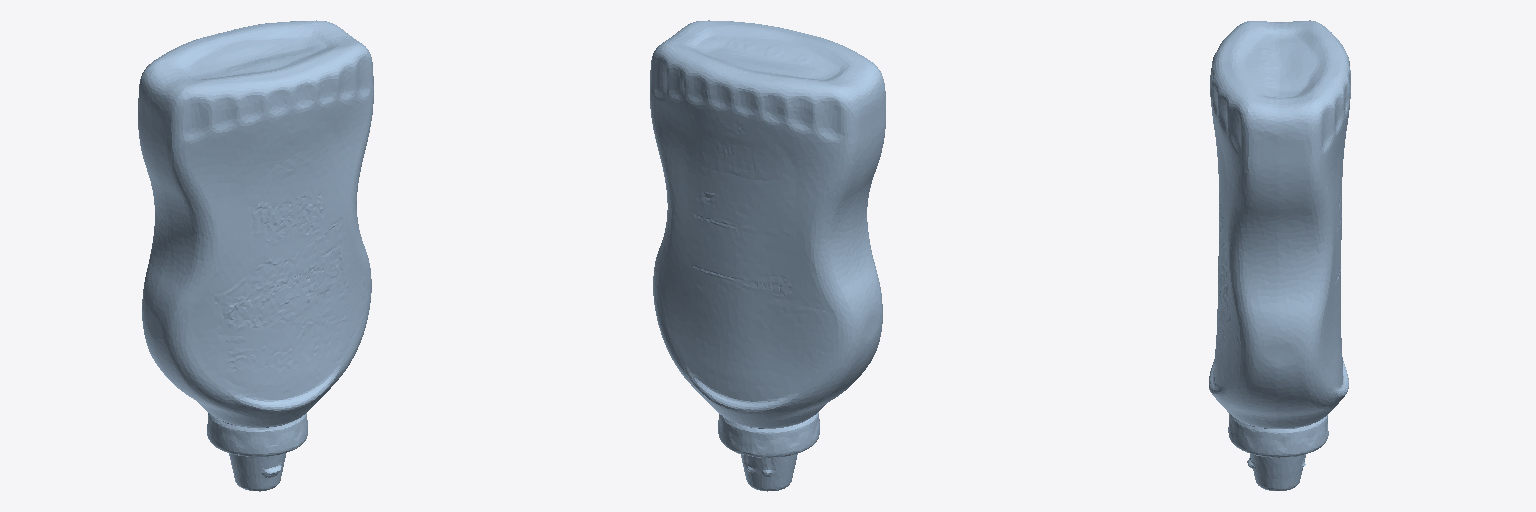
The robot description file, URDF, robot "mustard":
<?xml version="1.0" ?>
<robot name="mustard">
  <dynamics damping="0.5" friction="0.9"/>
  <link name="mustard_link">
    <inertial>
      <mass value="0.1"/>
      <origin xyz="0 0 0"/>
      <inertia ixx="0.002" ixy="0" ixz="0" iyy="0.002" iyz="0" izz="0.002"/>
    </inertial>
    <contact>
      <lateral_friction value="0.9"/>
      <rolling_friction value="0.5"/>
      <stiffness value="30000"/>
      <damping value="1000"/>
    </contact>
    <visual>
      <origin rpy="0 0 0" xyz="0 0 0"/>
      <geometry>
        <mesh filename="mustard.obj" scale="1.0 1.0 1.0"/>
      </geometry>
       <material name="mat">
        <color rgba="0.7 0.8 0.9 0.7"/>
      </material>
    </visual>
    <collision name="mustard">
      <origin rpy="0 0 0" xyz="0 0 0"/>
      <geometry>
        <mesh filename="mustard.obj" scale="1.0 1.0 1.0"/>
      </geometry>
    </collision>
  </link>
</robot>

--- Facts derived from the render (not from the file) ---
Views: 3 orthographic renders of the robot side by side, from view 1: azimuth 30°, elevation 25°; view 2: azimuth 150°, elevation 25°; view 3: azimuth 270°, elevation 25°.
Robot: mustard — 1 links, 0 joints (none); root link mustard_link; default pose: every joint at zero.
Visible links, largest first — view 1: mustard_link; view 2: mustard_link; view 3: mustard_link.
Link boxes in pixels (x1,y1,x2,y2): mustard_link: [138, 20, 373, 491]; mustard_link: [650, 20, 885, 491]; mustard_link: [1209, 20, 1350, 490].
Bounding box of the posed robot: 0.096 × 0.0582 × 0.1913 m (x, y, z).
Meshes: 1 distinct files referenced, 1 mesh visuals loaded (1 OBJ).
